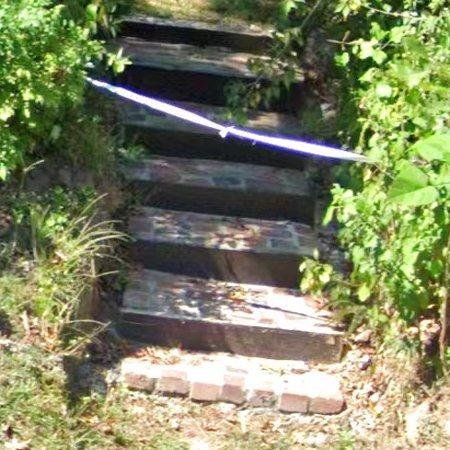stairs: (90, 20, 357, 414)
